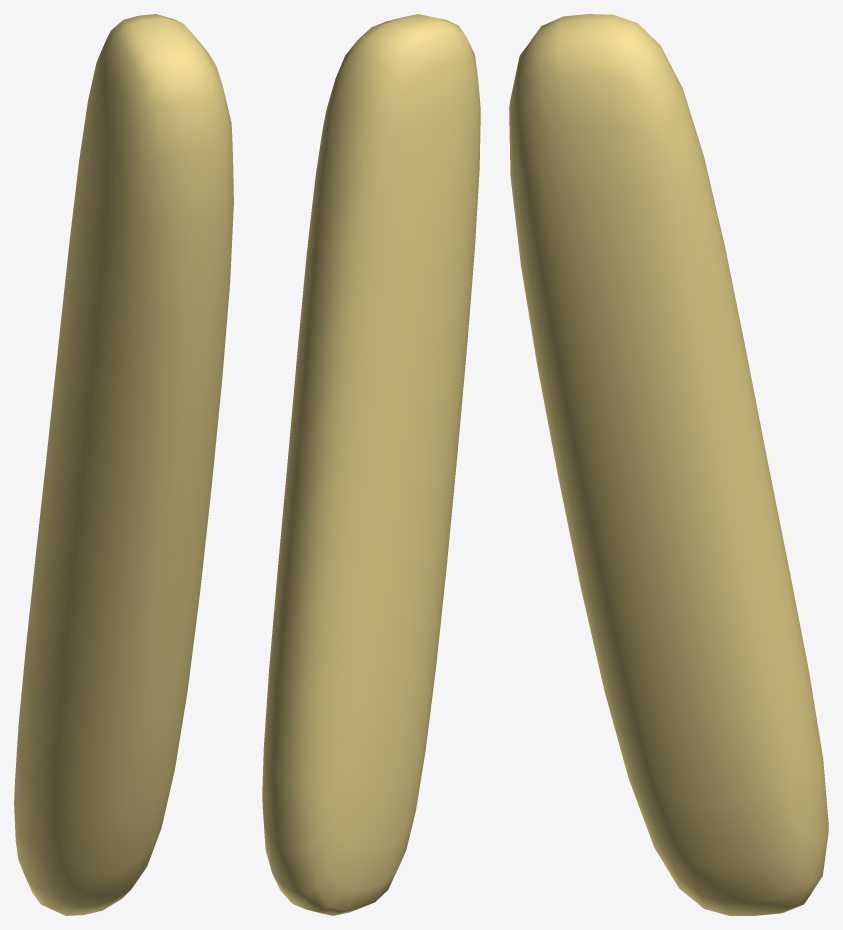
3 views of the same model, side by side, from view 1: azimuth 30°, elevation 25°; view 2: azimuth 150°, elevation 25°; view 3: azimuth 270°, elevation 25° (orthographic). The views are drawn at different scales.
Visible parts, largest first — view 1: ZA_a5e3b4802dfb196e; view 2: ZA_a5e3b4802dfb196e; view 3: ZA_a5e3b4802dfb196e.
Boxes of the visible parts, box(x1,y1,x2,y2) form: ZA_a5e3b4802dfb196e: box(14, 14, 233, 915); ZA_a5e3b4802dfb196e: box(262, 14, 480, 915); ZA_a5e3b4802dfb196e: box(509, 14, 828, 915).
Bounding box in the file's own units: 0.00133 × 0.00826 × 0.00269.
